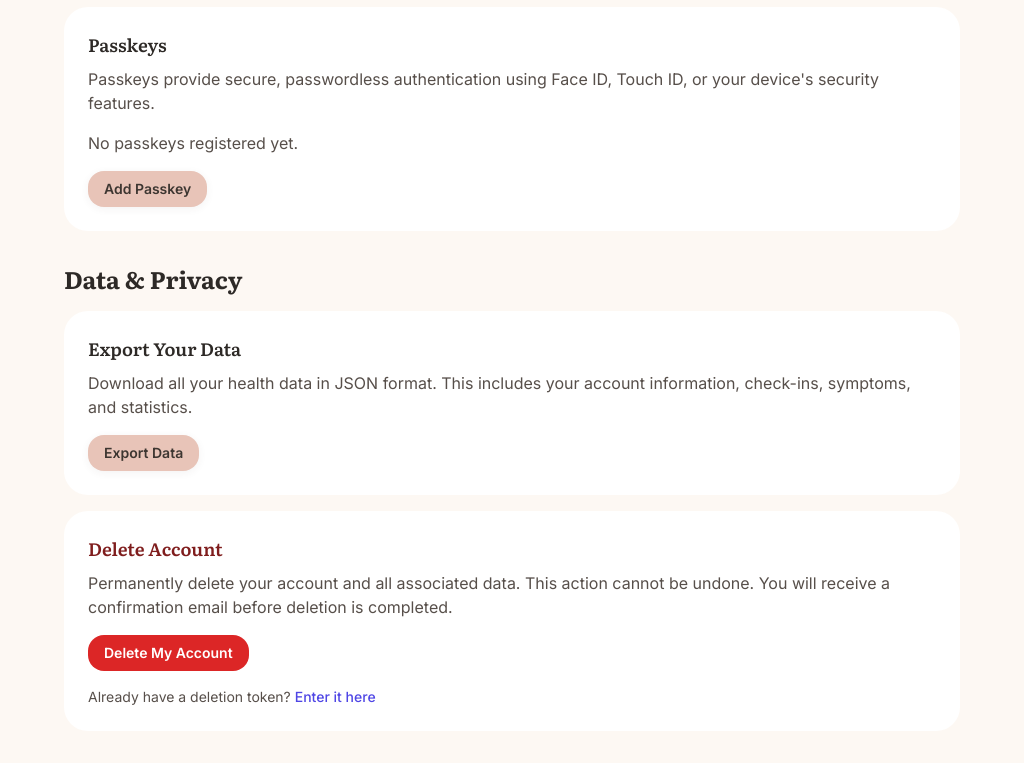
Test case: SettingsPage › Delete Account › should cancel deletion when cancel button is clicked
(page scrolled)
// Click delete button
Click the button "Delete My Account": (168, 653) [88,635,249,671]
(page scrolled)
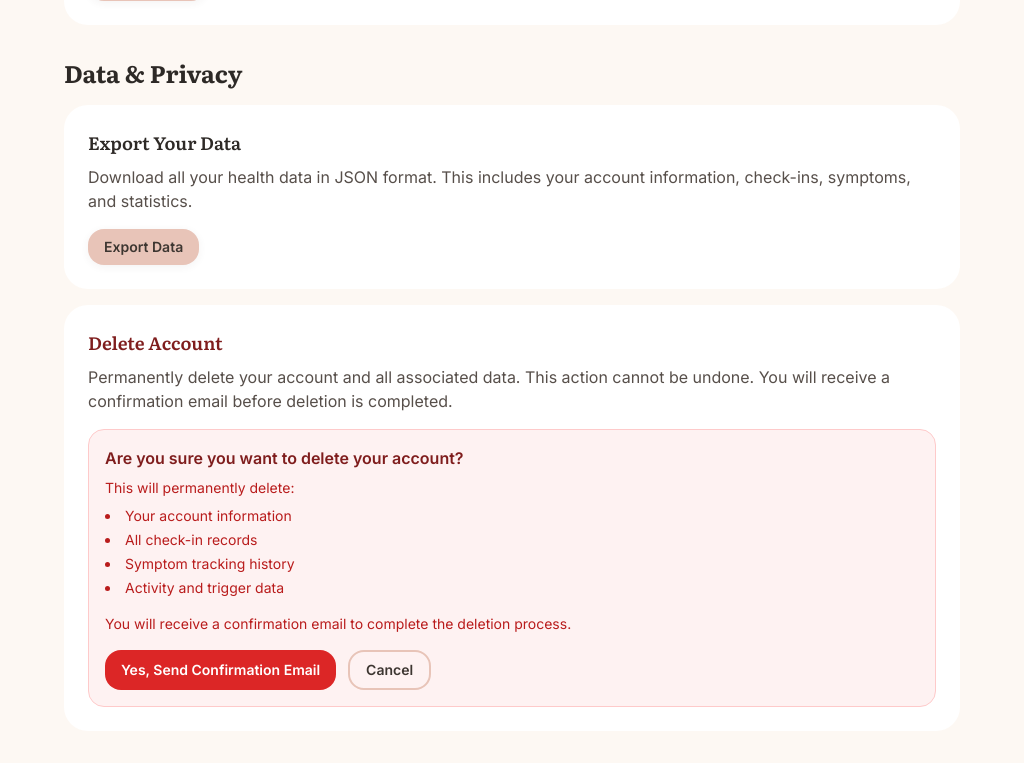
// Cancel deletion
Click the button "Cancel": (390, 670) [348,650,431,690]
(page scrolled)
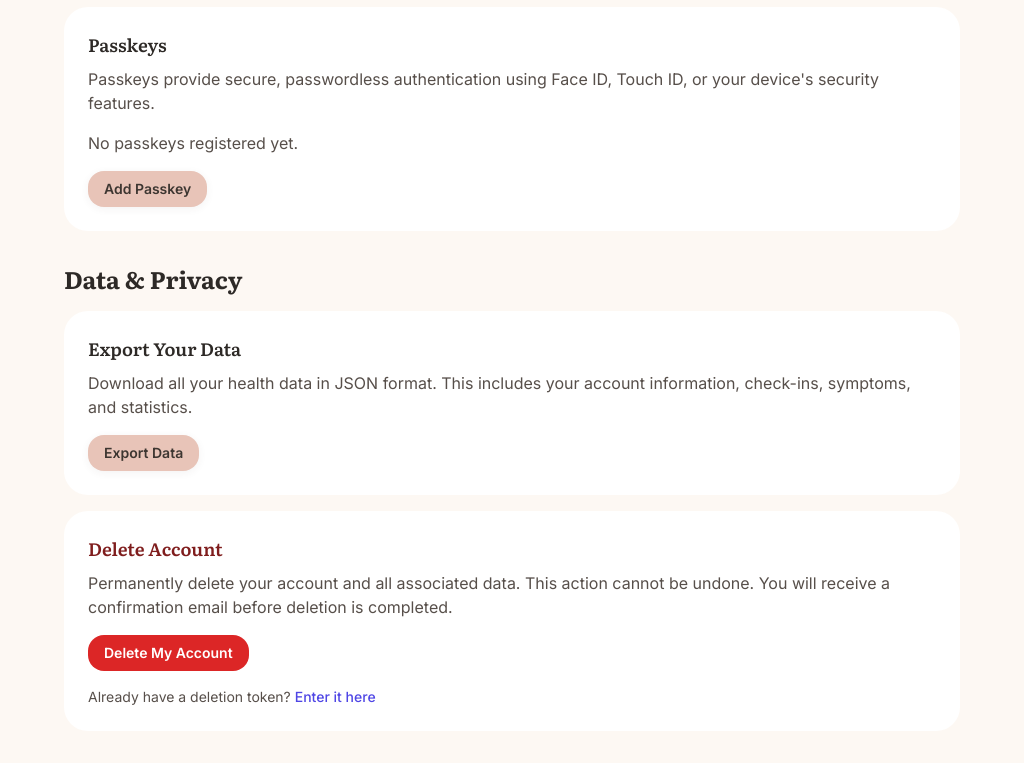
Now the text "Are you sure you want to delete your account" is gone
